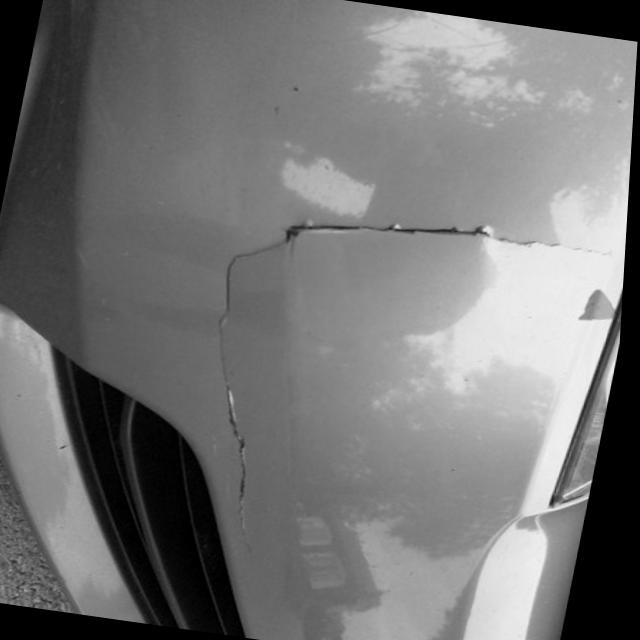Paint-Crack: (207, 192, 617, 545)
Paint-fading: (572, 285, 622, 323)
